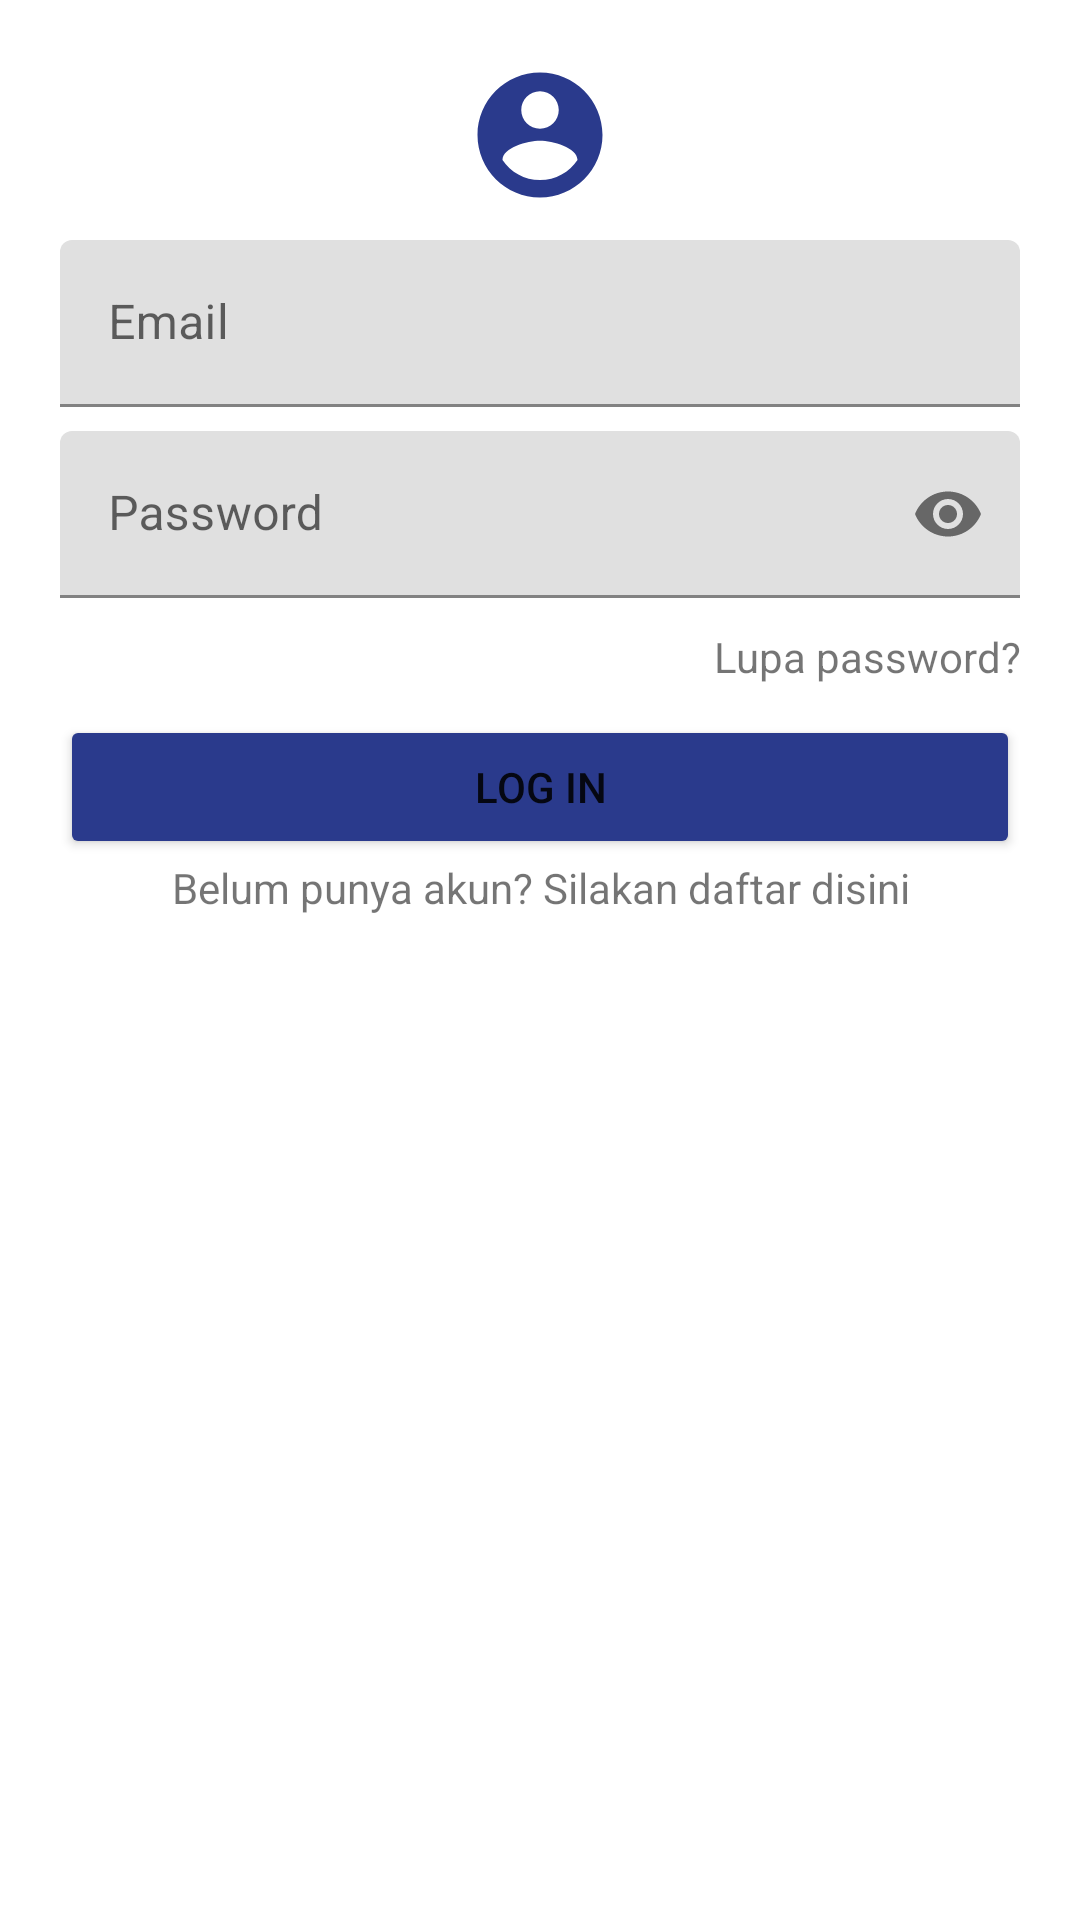

Named icons in this screenshot (1080 x 1920) and their centers, [x,y]:
profile: [540,135]
